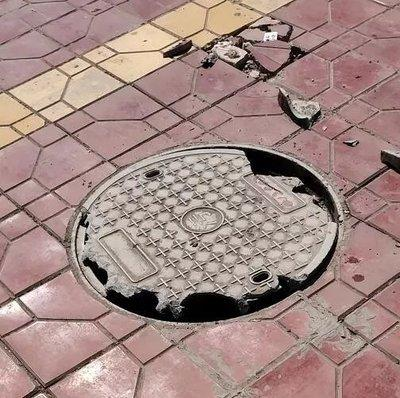wellcover: (50, 137, 347, 328)
